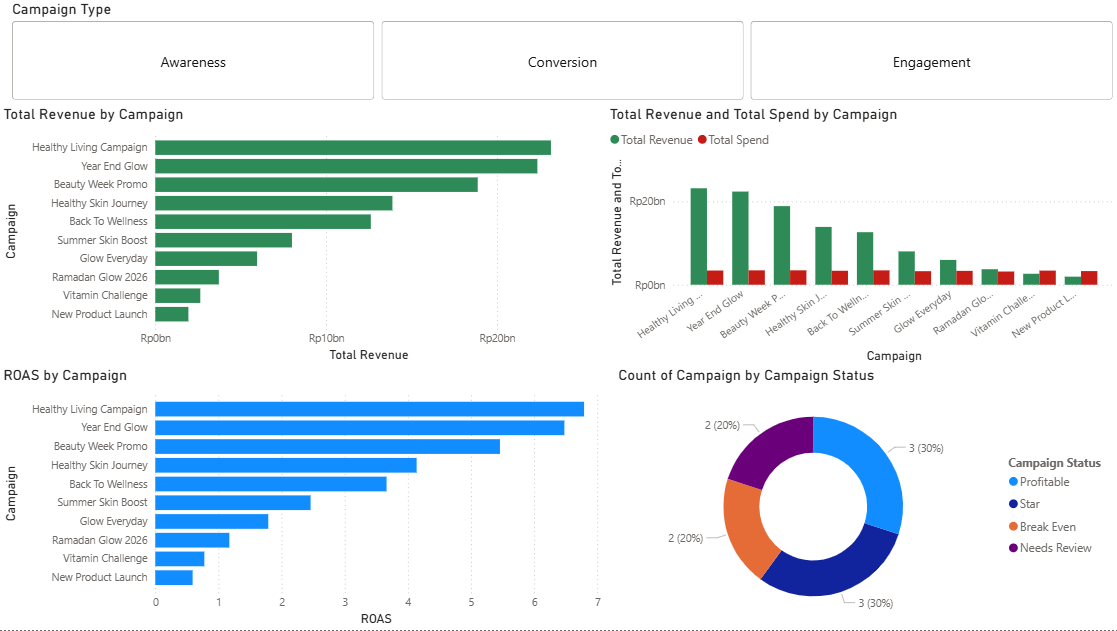

What the dashboard file says about the page in this screenshot:
{"tool":"powerbi","page":{"name":"Campaign Performance","canvas":[1280,720],"ordinal":1},"visuals":[{"type":"advancedSlicerVisual","fields":{"Values":["campaigns.Campaign Type"]},"box":[9.6,0,1270.7,119.4],"z":0},{"type":"barChart","fields":{"Category":["campaigns.Campaign"],"Y":["daily_metrics.Total Revenue"]},"box":[0,119.4,693,299.1],"z":1000},{"type":"barChart","fields":{"Category":["campaigns.Campaign"],"Y":["daily_metrics.ROAS"]},"box":[0,418.5,693,301.9],"z":2000},{"type":"clusteredColumnChart","fields":{"Category":["campaigns.Campaign"],"Y":["daily_metrics.Total Revenue","daily_metrics.Total Spend"]},"box":[693,119.4,587.3,299.1],"z":3000},{"type":"donutChart","fields":{"Y":["CountNonNull(campaigns.Campaign)"],"Category":["campaigns.Campaign Status"]},"box":[702.6,418.5,577.7,301.9],"z":4000}]}

Visuals, with their boxes in screenshot pixels (x1, y1, x2, y2), scaled from the page's 1280x720 canvas onto the 1117x631 screenshot:
advancedSlicerVisual - campaigns.Campaign Type: bbox(8, 0, 1116, 105)
barChart - campaigns.Campaign x daily_metrics.Total Revenue: bbox(0, 105, 605, 367)
barChart - campaigns.Campaign x daily_metrics.ROAS: bbox(0, 367, 605, 630)
clusteredColumnChart - campaigns.Campaign x daily_metrics.Total Revenue: bbox(605, 105, 1116, 367)
donutChart - CountNonNull(campaigns.Campaign) x campaigns.Campaign Status: bbox(613, 367, 1116, 630)
